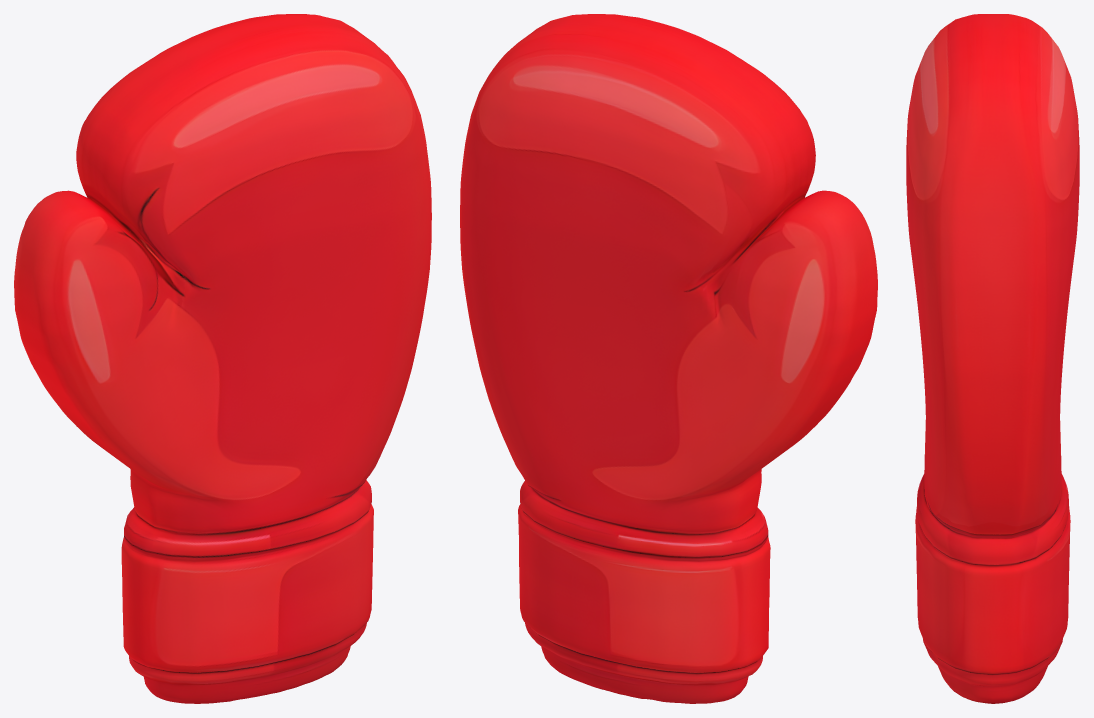
The model's file is boxing_glove.glb.
3 renders of one model, left to right at view 1: azimuth 30°, elevation 25°; view 2: azimuth 150°, elevation 25°; view 3: azimuth 270°, elevation 25°, orthographic. The views are drawn at different scales.
Parts seen in each view (by area): view 1: model; view 2: model; view 3: model.
Boxes of the visible parts, x1,y1,x2,y2 form: model: [14, 14, 431, 703]; model: [460, 14, 877, 703]; model: [906, 14, 1079, 703].
Bounding box in the file's own units: 1.2 × 1.91 × 0.4788.
1 material, 1 textured.
